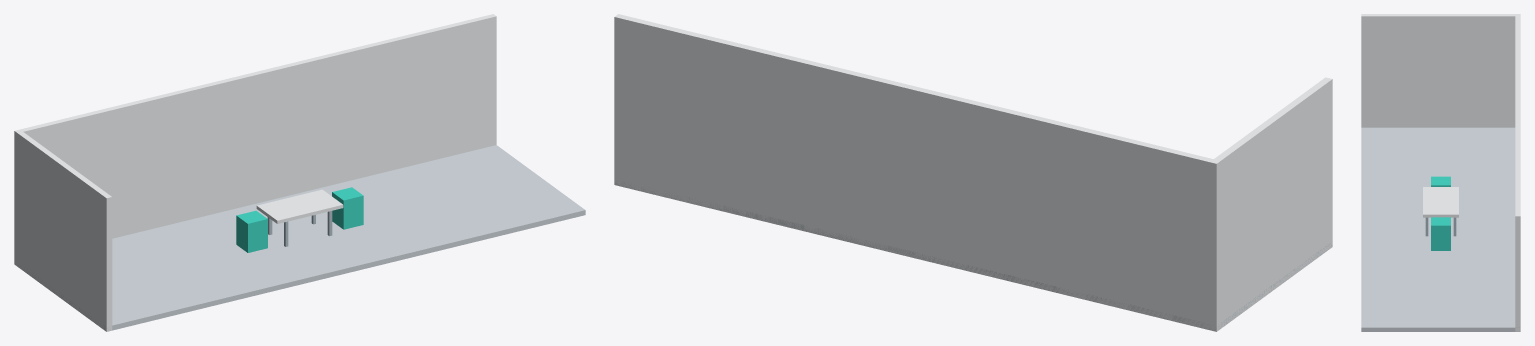
The picture shows the model from 3 angles, left to right: view 1: azimuth 30°, elevation 25°; view 2: azimuth 150°, elevation 25°; view 3: azimuth 270°, elevation 25°; orthographic projection. The views are drawn at different scales.
Visible parts, largest first — view 1: Exhibition Booth Concept; view 2: Exhibition Booth Concept; view 3: Exhibition Booth Concept.
Part boxes in pixels (left/top/right/bottom): Exhibition Booth Concept: left=14, top=14, right=585, bottom=331; Exhibition Booth Concept: left=614, top=14, right=1332, bottom=331; Exhibition Booth Concept: left=1361, top=14, right=1520, bottom=331.
Size of the model in its own units: 12 by 3.2 by 4.
